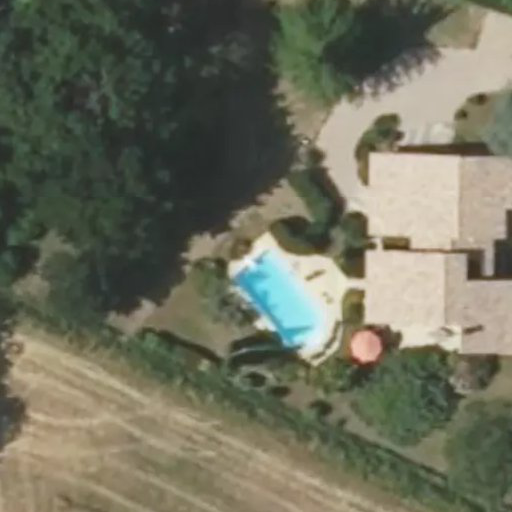pool: (216, 222, 295, 261)
